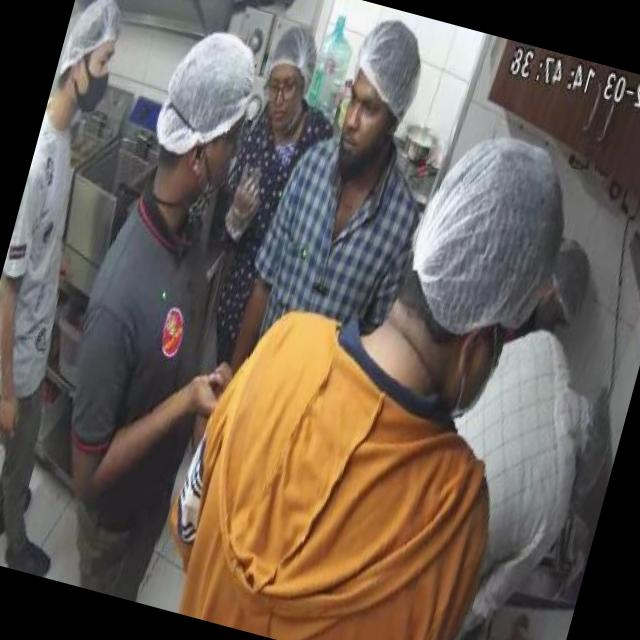hairnet: (397, 120, 578, 336), (146, 31, 250, 150), (352, 16, 431, 98), (536, 238, 602, 330), (564, 401, 621, 502), (64, 0, 123, 58), (267, 21, 325, 79)
